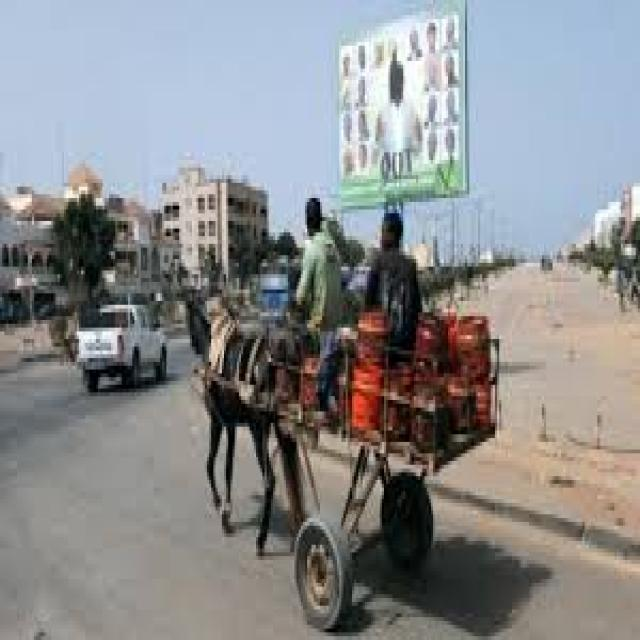charette: (189, 284, 499, 628)
particulier: (79, 307, 169, 392)
